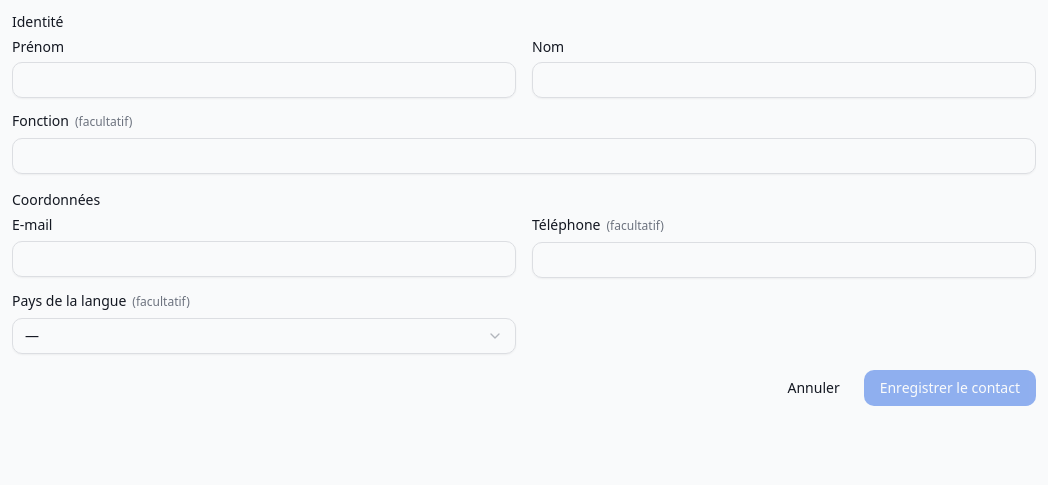
Test case: CollectContactForm › shows a refusal of the API that names no field of the form
Type "ada@acme.test" into the field labelled "E-mail" at point(264, 259), box [12,241,516,277]
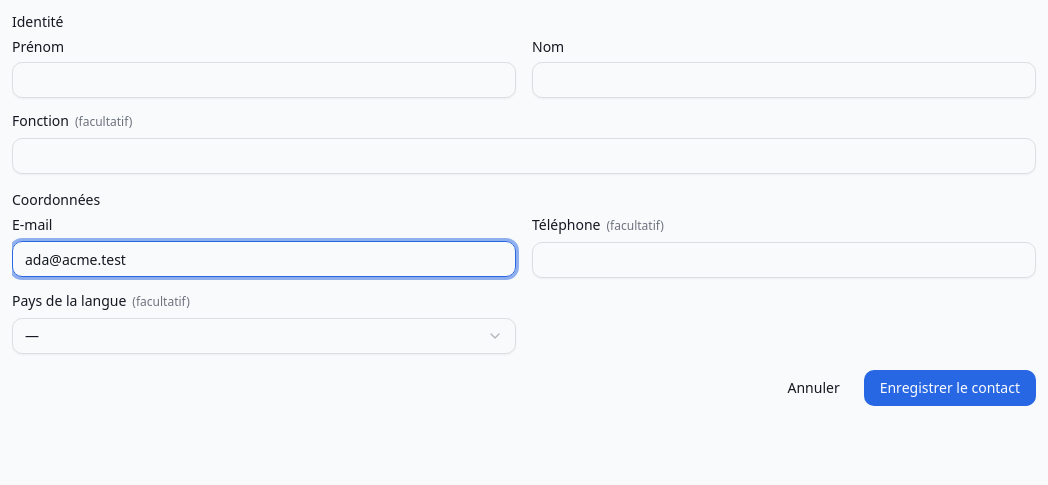
Click the button "Enregistrer le contact" at point(950, 388), box [864,370,1036,406]
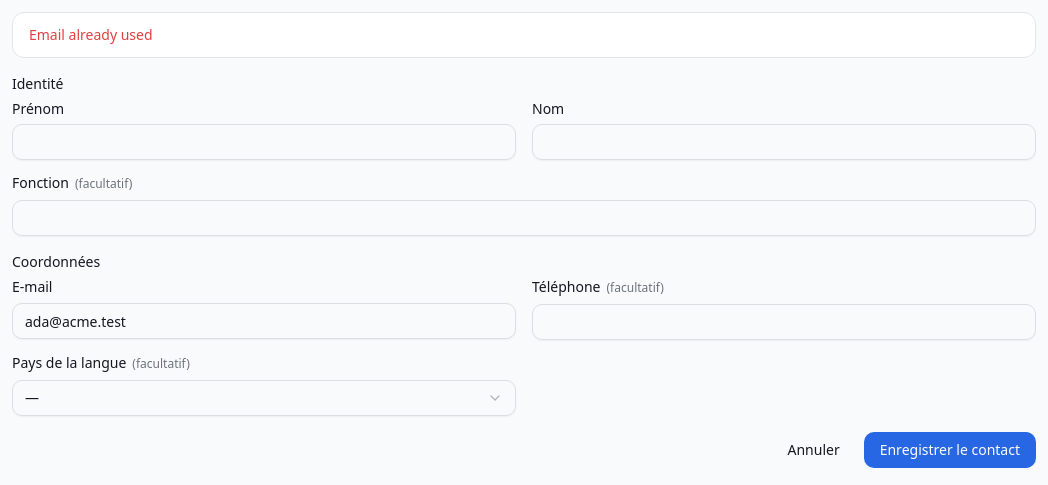
Expected: the message reads "Email already used", [29,25,153,44]
